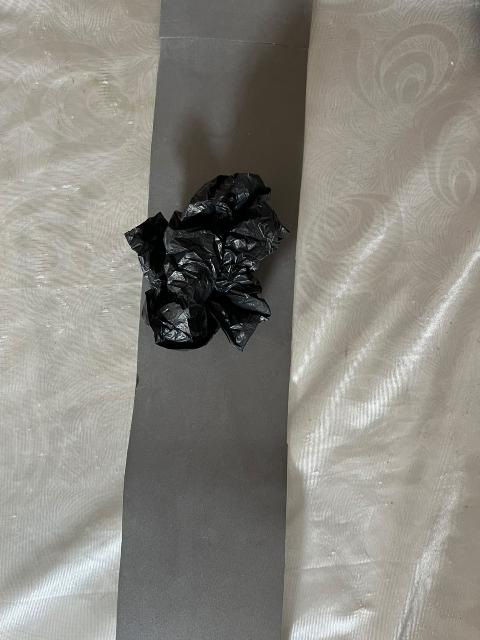LDPE: (101, 139, 301, 368)
